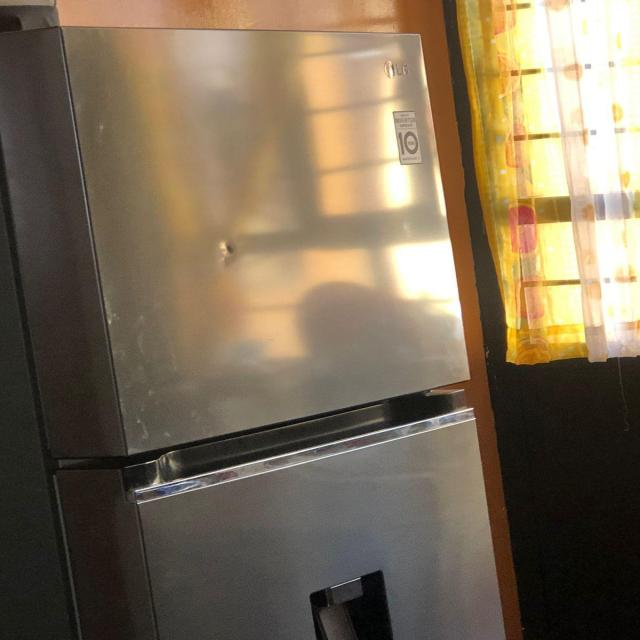dents: (196, 231, 268, 293)
